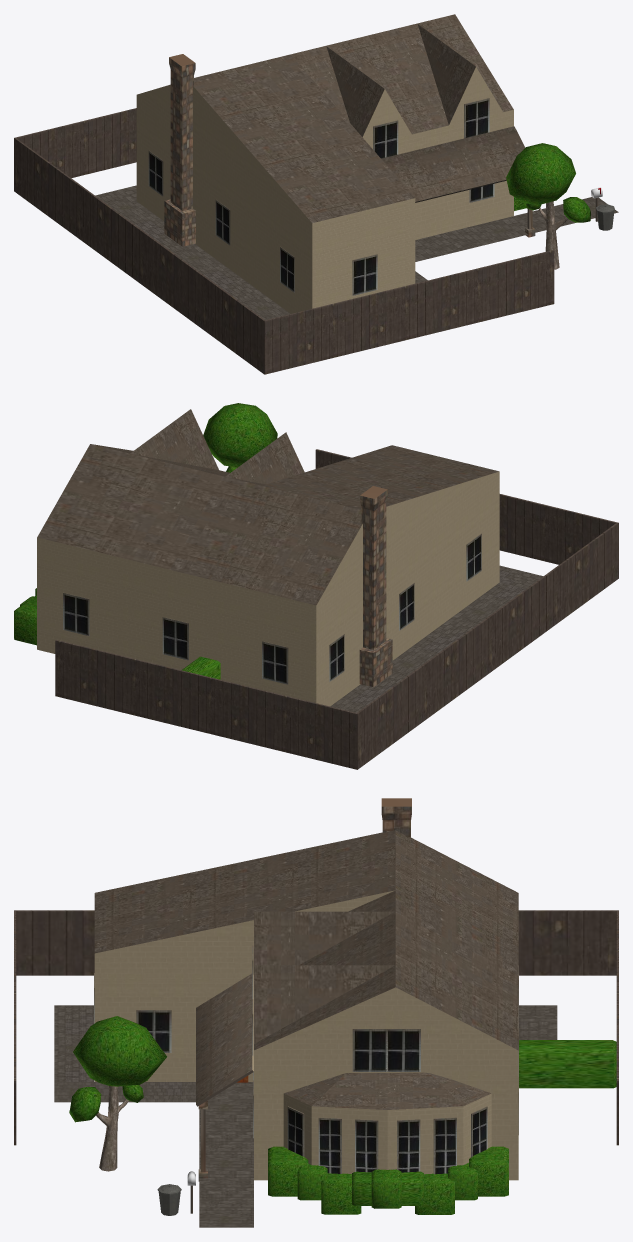
Rendered from House 3.fbx.
3 renders of one model, top to bottom at view 1: azimuth 30°, elevation 25°; view 2: azimuth 150°, elevation 25°; view 3: azimuth 270°, elevation 25°, orthographic. The views are drawn at different scales.
Visible parts, largest first — view 1: Building.002, Fence.002, Sidewalk.002, Tree.002, Window.026, Window.019, Window.014, Window.021, Window.016, Window.022; view 2: Building.002, Fence.002, Sidewalk.002, Tree.002, Hedges.005, Window.013, Window.017, Window.018, Window.022, Window.021, Window.016; view 3: Building.002, Hedges.005, Sidewalk.002, Fence.002, Tree.002, Window.024, Window.025, Double Window.008, Double Window.004, Double Window.007, Double Window.005, Window.023 (+3 smaller).
Boxes of the visible parts, <box> form: Building.002: <box>136,14,535,313</box>; Fence.002: <box>14,108,554,374</box>; Sidewalk.002: <box>95,185,618,319</box>; Tree.002: <box>506,143,590,269</box>; Window.026: <box>352,254,377,295</box>; Window.019: <box>464,98,489,138</box>; Window.014: <box>373,120,398,158</box>; Window.021: <box>215,200,230,245</box>; Window.016: <box>148,151,163,196</box>; Window.022: <box>280,246,294,292</box>; Building.002: <box>37,409,499,706</box>; Fence.002: <box>55,449,618,769</box>; Sidewalk.002: <box>330,565,543,712</box>; Tree.002: <box>203,403,277,472</box>; Hedges.005: <box>14,588,220,679</box>; Window.013: <box>162,617,188,660</box>; Window.017: <box>63,592,89,636</box>; Window.018: <box>262,641,288,684</box>; Window.022: <box>466,533,481,581</box>; Window.021: <box>399,583,414,630</box>; Window.016: <box>329,634,344,681</box>; Building.002: <box>94,798,518,1181</box>; Hedges.005: <box>268,1040,616,1214</box>; Sidewalk.002: <box>54,1005,557,1227</box>; Fence.002: <box>14,910,618,1145</box>; Tree.002: <box>69,1016,166,1171</box>; Window.024: <box>352,1029,387,1071</box>; Window.025: <box>386,1029,420,1071</box>; Double Window.008: <box>433,1117,456,1174</box>; Double Window.004: <box>318,1117,341,1173</box>; Double Window.007: <box>397,1119,420,1172</box>; Double Window.005: <box>355,1119,378,1172</box>; Window.023: <box>136,1010,171,1052</box>.
Bounding box in the file's own units: 1013 × 427 × 1020.
